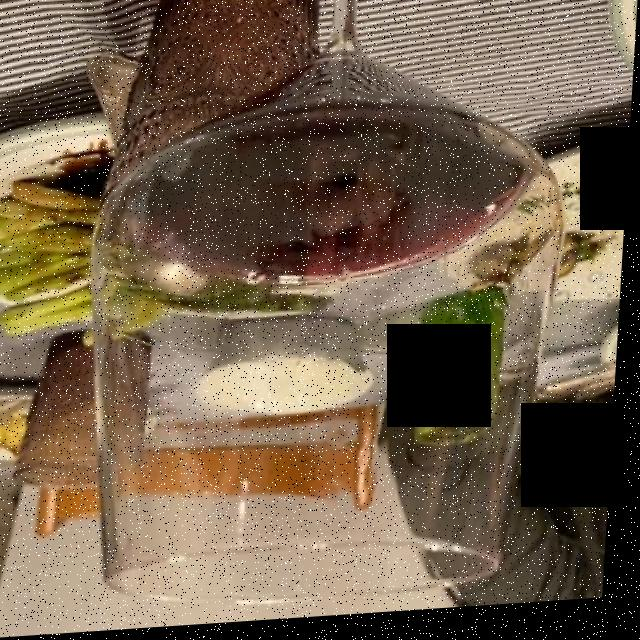wine-red: (122, 69, 546, 295)
